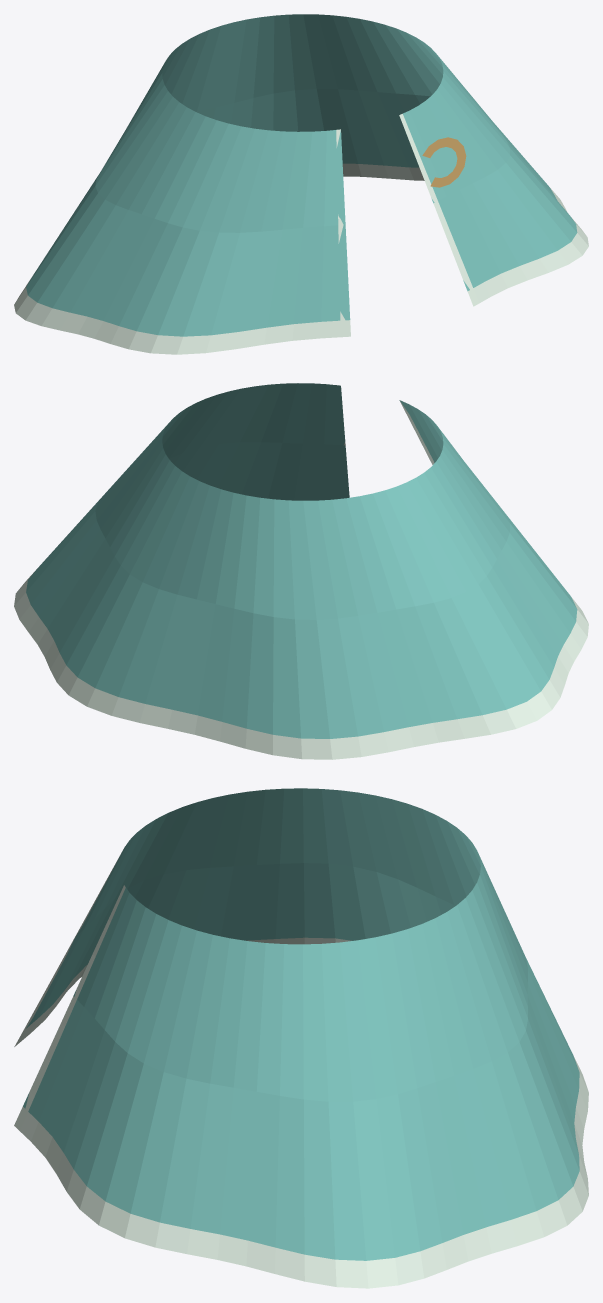
Rendered from cape.glb.
3 renders of one model, top to bottom at view 1: azimuth 30°, elevation 25°; view 2: azimuth 150°, elevation 25°; view 3: azimuth 270°, elevation 25°, orthographic. The views are drawn at different scales.
Visible parts, largest first — view 1: cape; view 2: cape; view 3: cape.
Boxes of the visible parts, box(x1,y1,x2,y2) form: cape: box(14, 14, 588, 354); cape: box(14, 383, 588, 759); cape: box(14, 788, 588, 1288).
Bounding box in the file's own units: 0.6497 × 0.252 × 0.4703.
